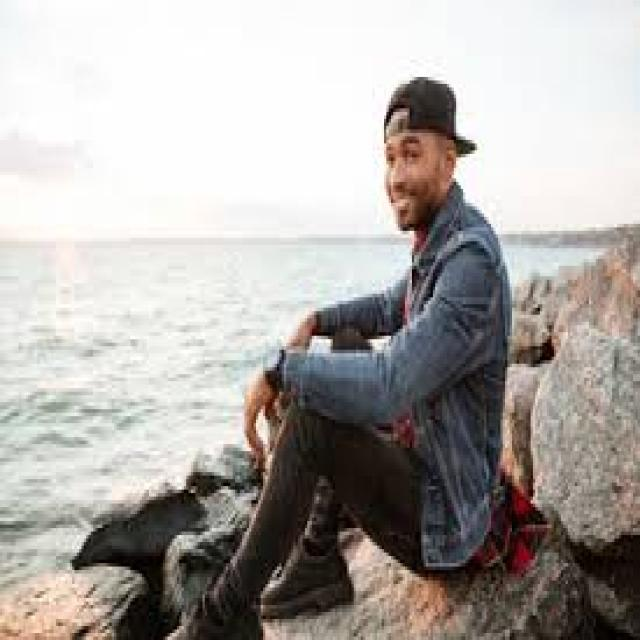cap: (386, 73, 477, 231)
